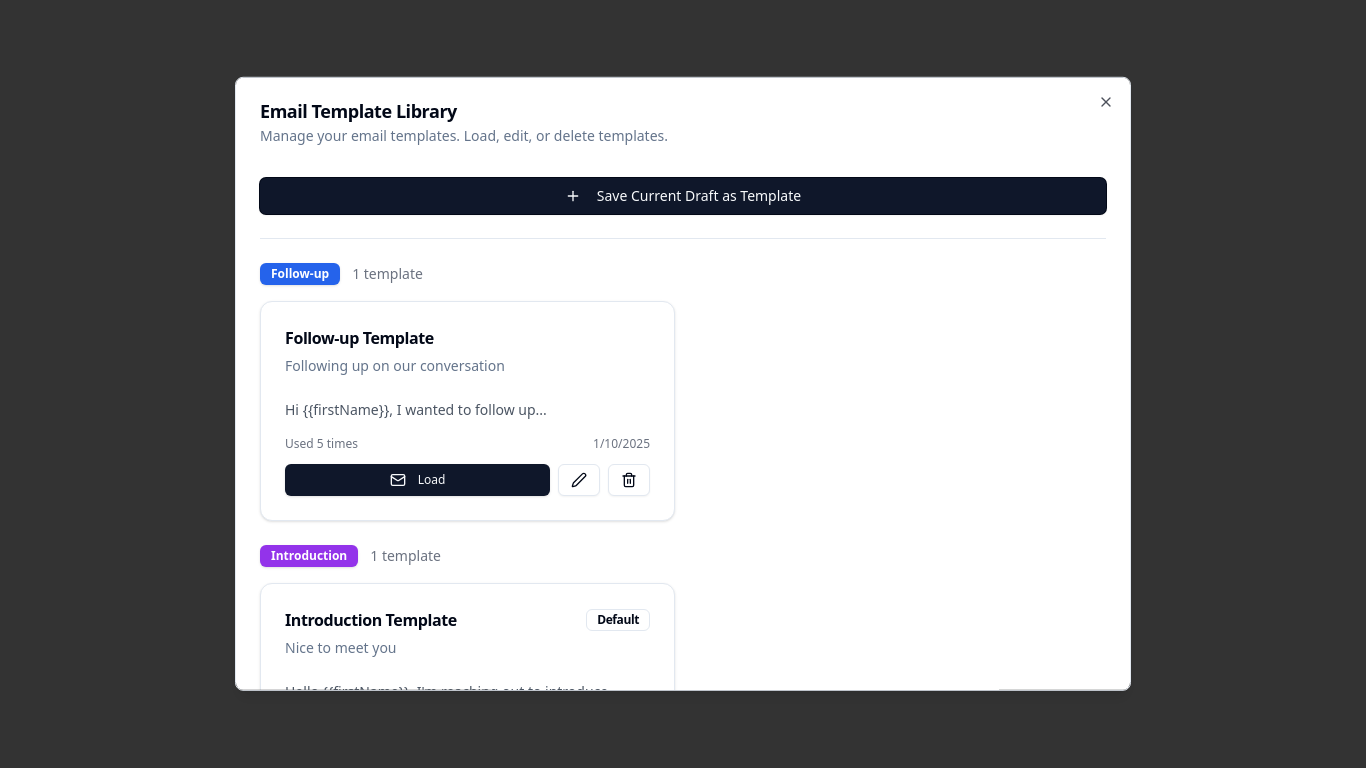
Test: TemplateLibrary › 20.7 Save as Template › should disable save button when required fields are empty
This screenshot has width=1366, height=768.
Click the button "Save Current Draft as Template" at [683, 196], box left=260, top=178, right=1106, bottom=214
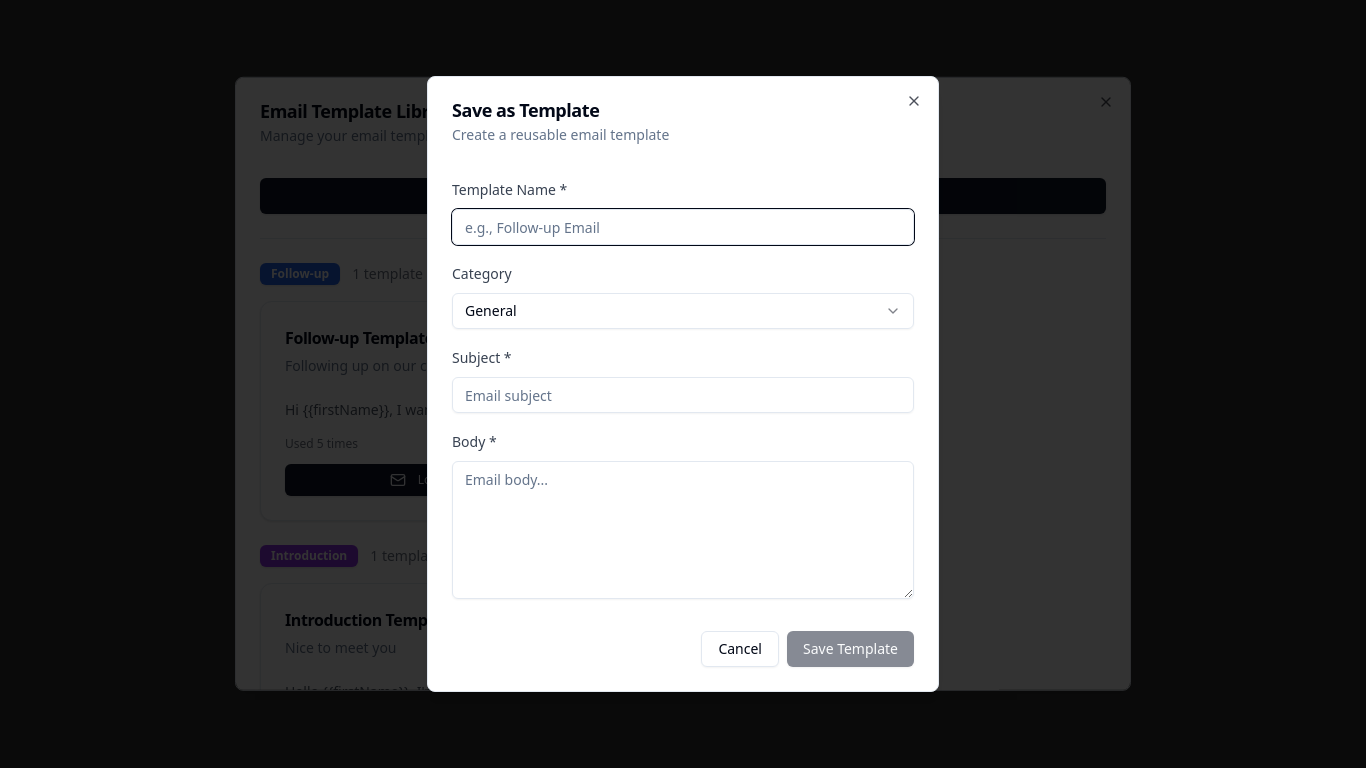
Now the button "Save Template" is disabled, box left=787, top=631, right=914, bottom=667
